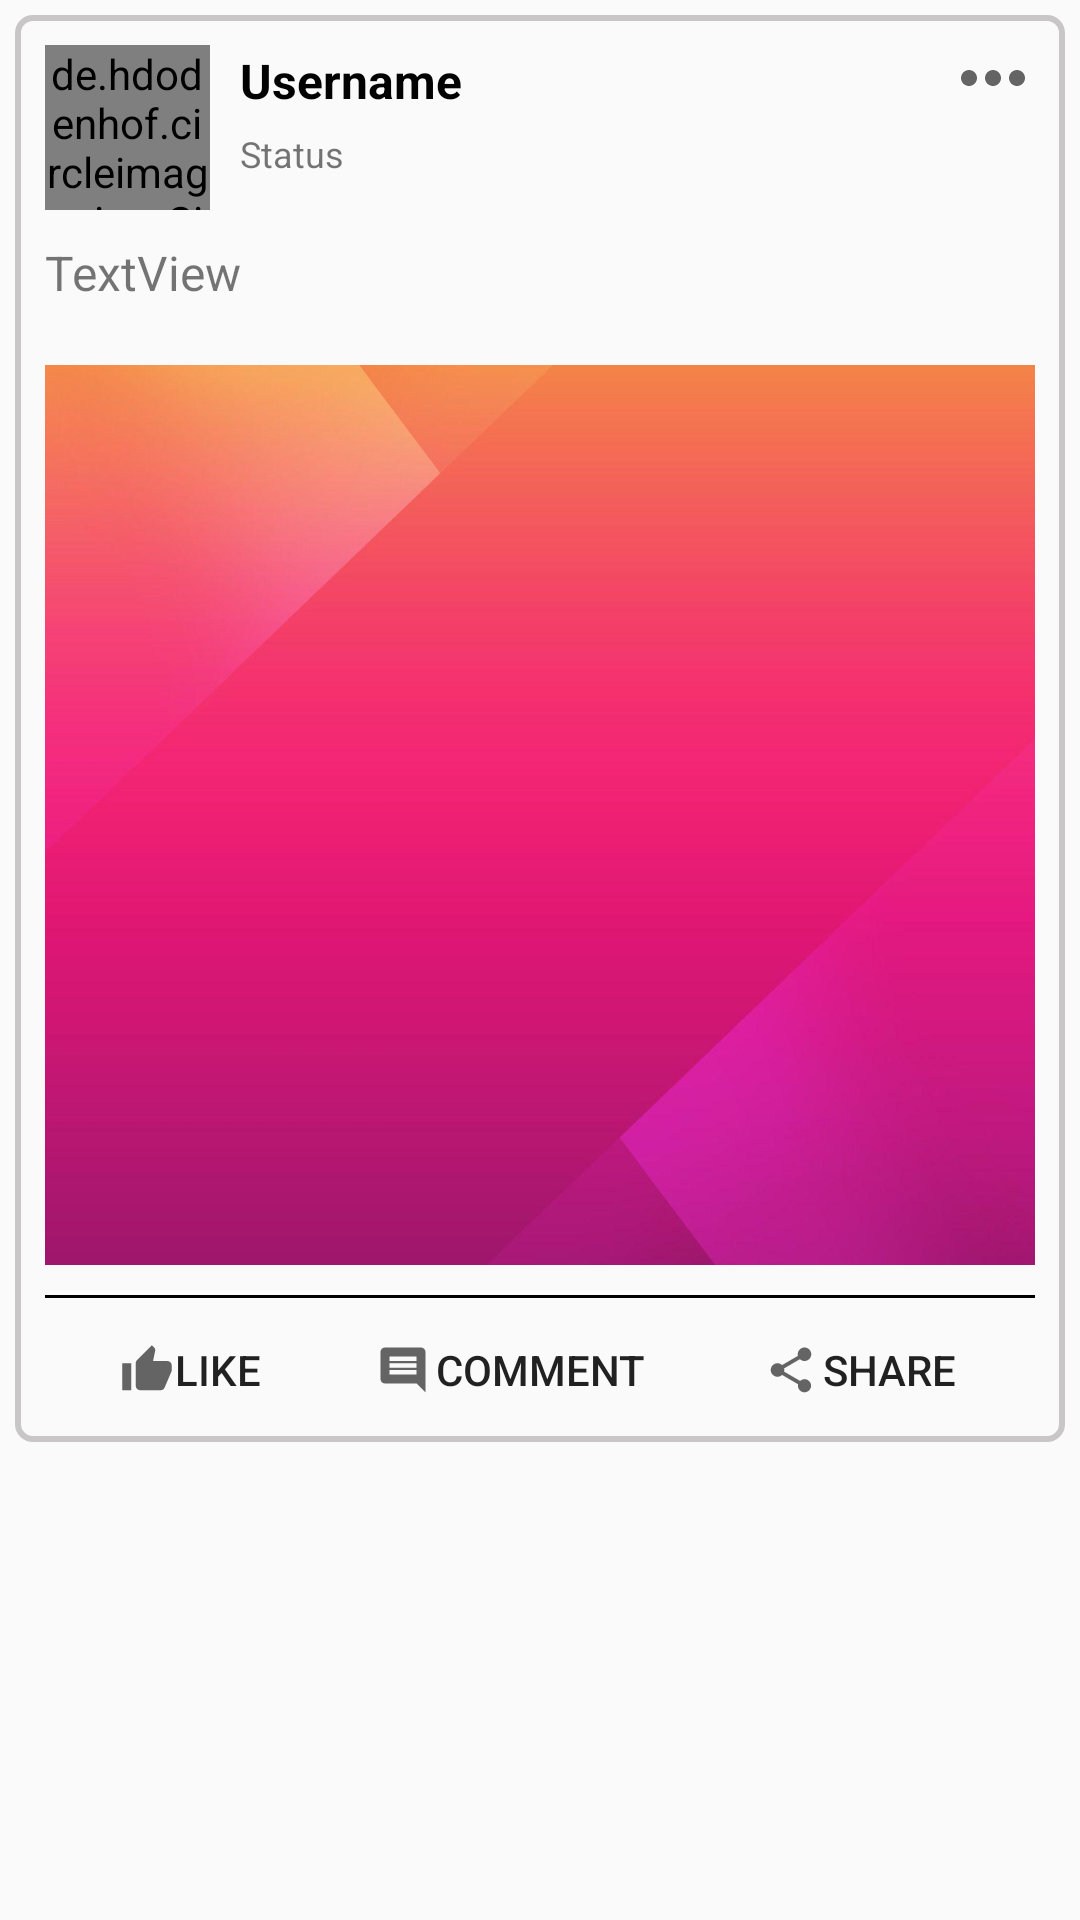

Point at icon controls on the screen. Image size 1080 x 1920, points as [x,y].
more: [993,78]
